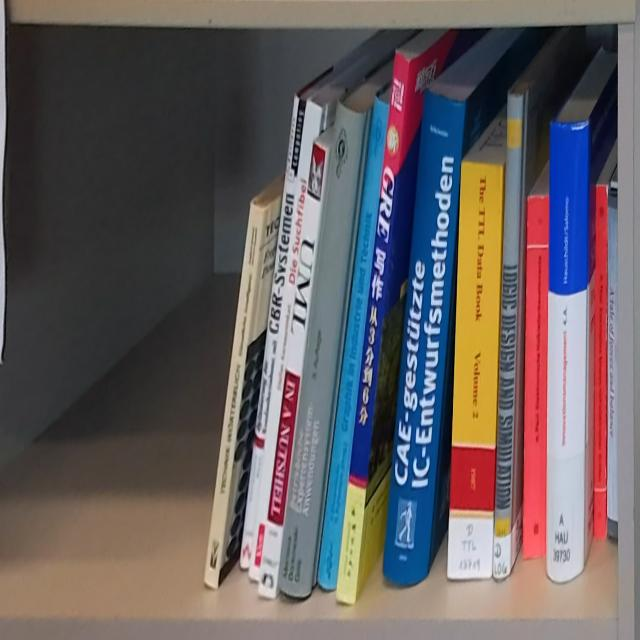Book Spine: (279, 98, 367, 597), (333, 51, 411, 607), (383, 85, 466, 589), (248, 99, 326, 582), (316, 92, 390, 592), (259, 141, 329, 600), (239, 92, 306, 568), (203, 200, 267, 591), (447, 161, 504, 580), (545, 118, 587, 583), (491, 90, 525, 582), (523, 196, 548, 560), (592, 184, 608, 537), (608, 184, 619, 543)
